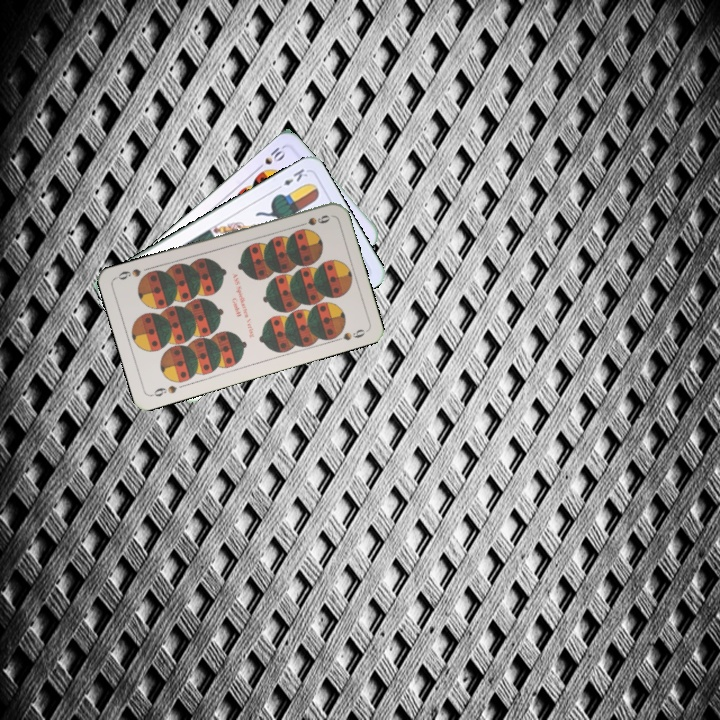EK: (272, 164, 310, 193)
S10: (252, 142, 288, 173)
S9: (293, 211, 333, 230), (147, 381, 179, 399)
